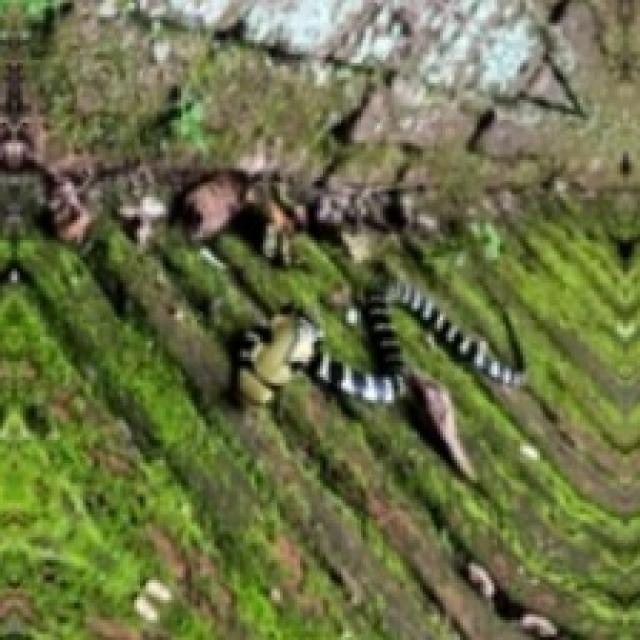king cobra: (236, 281, 529, 404)
